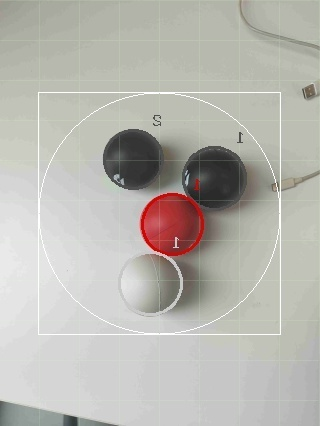Pelota blanca: (117, 252, 185, 318)
Pelota negra: (181, 145, 249, 211), (103, 126, 164, 190)
Pelota roja: (141, 190, 207, 256)
